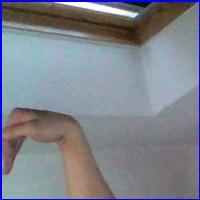del: (2, 103, 80, 179)
